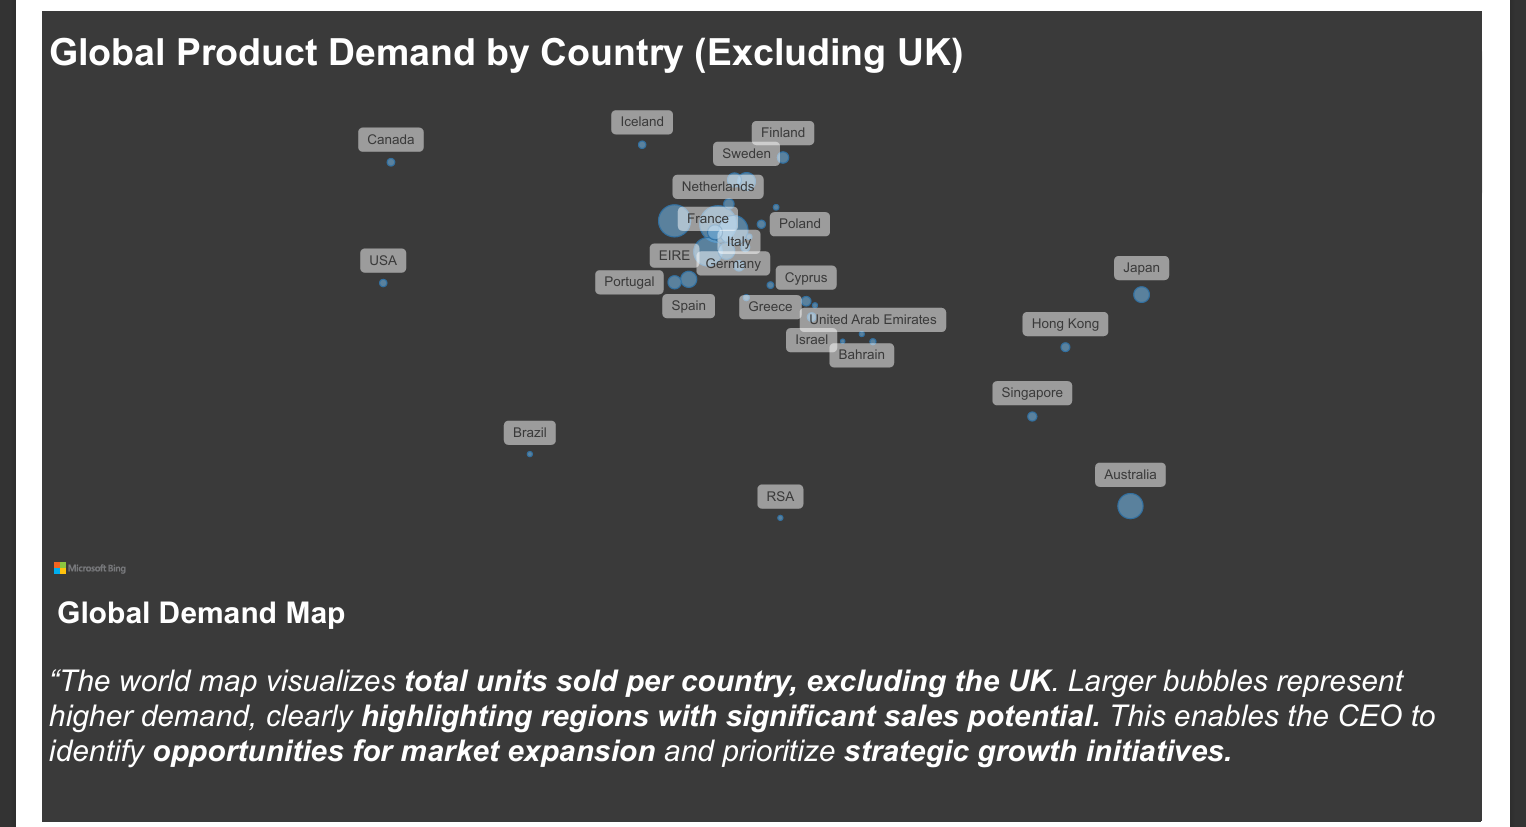

This screenshot's page, from the dashboard's own definition file:
{"tool":"powerbi","page":{"name":"Global Demand","canvas":[1280,720],"ordinal":3},"visuals":[{"type":"map","title":"Global Product Demand by Country (Excluding UK)","fields":{"Category":["Online Retail.Country"],"Size":["Online Retail.Total Quantity"]},"box":[0,17.5,1278.9,496.3],"z":0},{"type":"textbox","box":[0,513.8,1278.9,206.8],"z":1000}]}

Visuals, with their boxes on the page's 1280x720 design canvas (x1, y1, x2, y2). These are canvas units, not pixel positions in the 1526x827 screenshot, which may show the page scaled, cropped or inside an application window:
"Global Product Demand by Country (Excluding UK)" map: rect(0, 18, 1279, 514)
textbox: rect(0, 514, 1279, 721)
